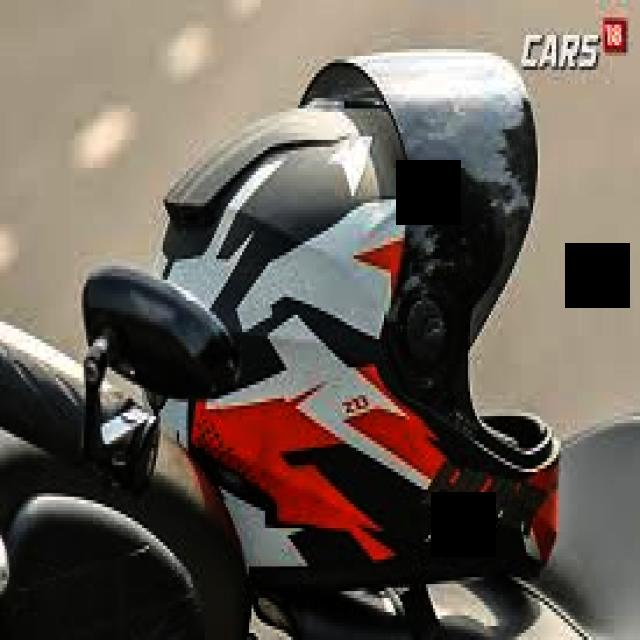Helmet: (160, 53, 566, 585)
